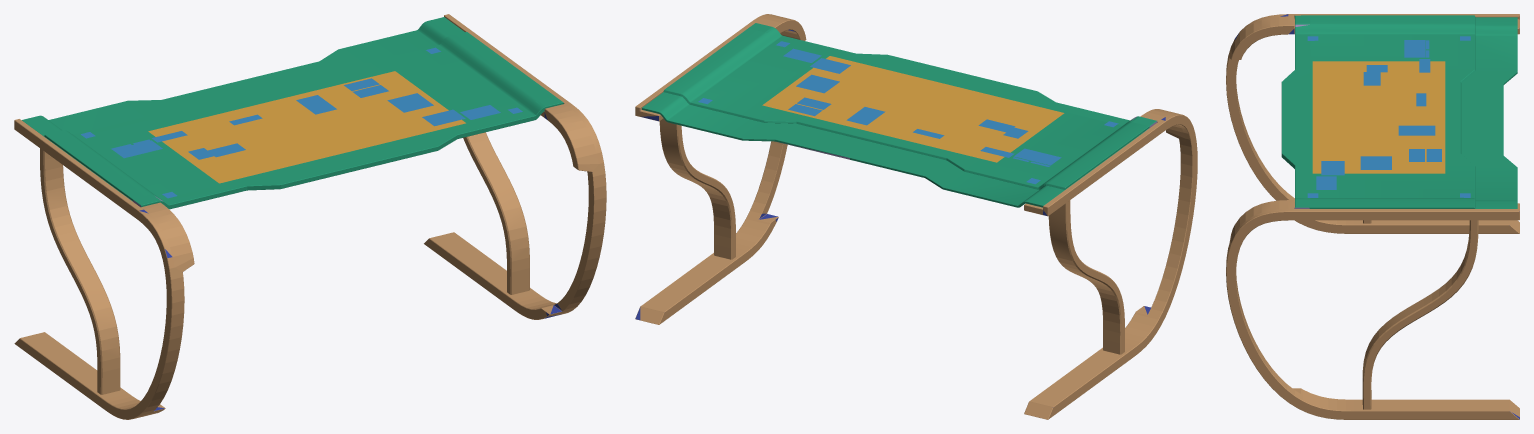
File: Blender249.fbx
The picture shows the model from 3 angles, left to right: view 1: azimuth 30°, elevation 25°; view 2: azimuth 150°, elevation 25°; view 3: azimuth 270°, elevation 25°; orthographic projection. The views are drawn at different scales.
Visible parts, largest first — view 1: 001-0-1, 000-0-0, 003-0-3, 002-0-2; view 2: 001-0-1, 000-0-0, 003-0-3, 002-0-2; view 3: 001-0-1, 000-0-0, 003-0-3, 002-0-2.
Boxes of the visible parts, box(x1,y1,x2,y2) form: 001-0-1: box(22, 17, 563, 209); 000-0-0: box(14, 14, 606, 419); 003-0-3: box(148, 71, 465, 183); 002-0-2: box(81, 47, 522, 198); 001-0-1: box(642, 23, 1157, 207); 000-0-0: box(635, 14, 1197, 419); 003-0-3: box(762, 56, 1064, 162); 002-0-2: box(698, 41, 1118, 184); 001-0-1: box(1281, 15, 1517, 208); 000-0-0: box(1226, 14, 1519, 419); 003-0-3: box(1312, 61, 1445, 173); 002-0-2: box(1307, 36, 1470, 197).
Bounding box in the file's own units: 2.14 × 1.06 × 1.34.
